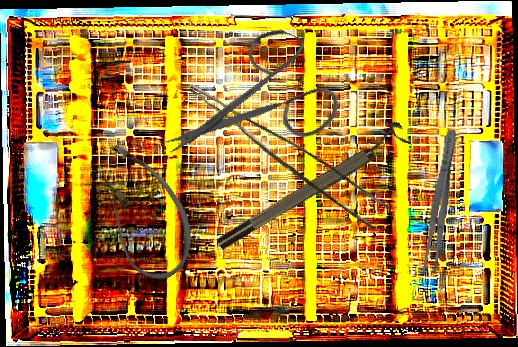Cannula: (70, 132, 212, 292)
Dressing Forceps: (419, 128, 462, 275)
Fixation Ring: (209, 119, 413, 254)
Iris Scissors: (159, 4, 360, 208)
Tissue Forceps: (174, 84, 395, 231)
